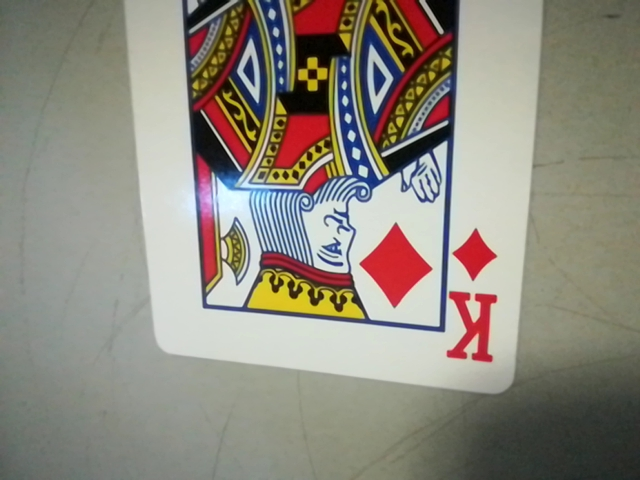fk k: (439, 224, 509, 373)
